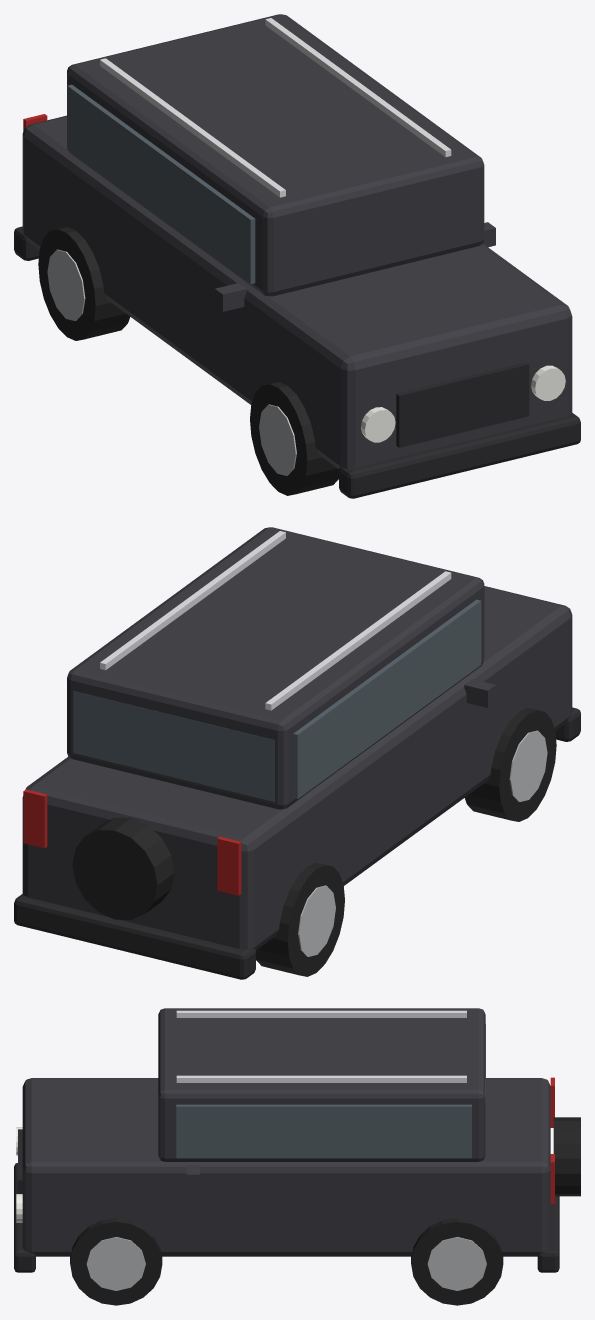
Rendered from car_suv.gltf.
The picture shows the model from 3 angles, top to bottom: view 1: azimuth 30°, elevation 25°; view 2: azimuth 150°, elevation 25°; view 3: azimuth 270°, elevation 25°; orthographic projection. The views are drawn at different scales.
Parts seen in each view (by area): view 1: CarSUV; view 2: CarSUV; view 3: CarSUV.
Part boxes in pixels (<box>): CarSUV: <box>14,14,580,498</box>; CarSUV: <box>14,527,580,979</box>; CarSUV: <box>14,1008,580,1305</box>.
Bounding box in the file's own units: 2.31 × 2.13 × 5.15.
